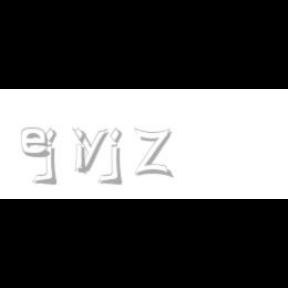Z: (134, 128, 172, 178)
e: (22, 128, 54, 158)
i: (74, 128, 90, 176)
j: (42, 128, 70, 186), (108, 128, 136, 186)
y: (72, 128, 112, 172)
